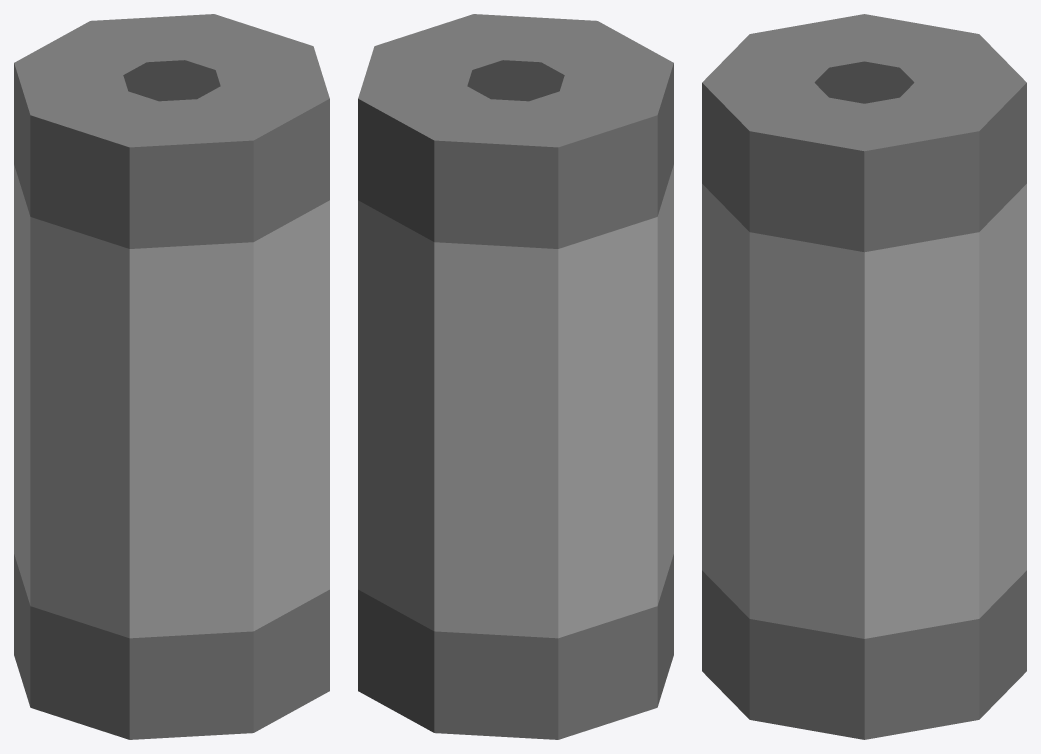
File: Air_Filter_0.fbx
3 views of the same model, side by side, from view 1: azimuth 30°, elevation 25°; view 2: azimuth 150°, elevation 25°; view 3: azimuth 270°, elevation 25° (orthographic).
Parts seen in each view (by area): view 1: Air_Filter_0; view 2: Air_Filter_0; view 3: Air_Filter_0.
Boxes of the visible parts, x1,y1,x2,y2 form: Air_Filter_0: (14, 14, 329, 739); Air_Filter_0: (358, 14, 673, 739); Air_Filter_0: (702, 14, 1026, 739).
Size of the model in its own units: 20 by 40 by 20.
